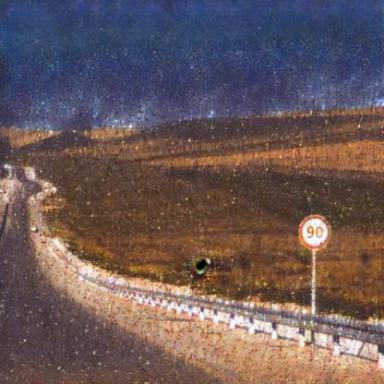Speed_limit_90: (299, 215, 332, 249)
